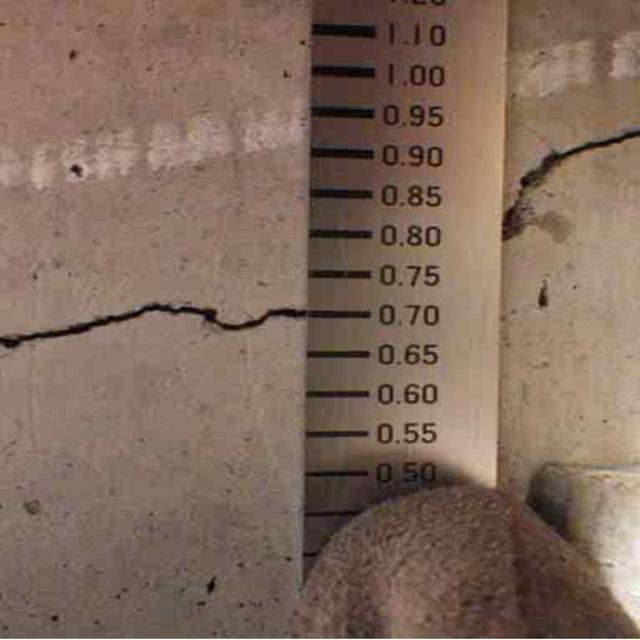crack: (500, 87, 640, 247), (3, 299, 317, 364)
